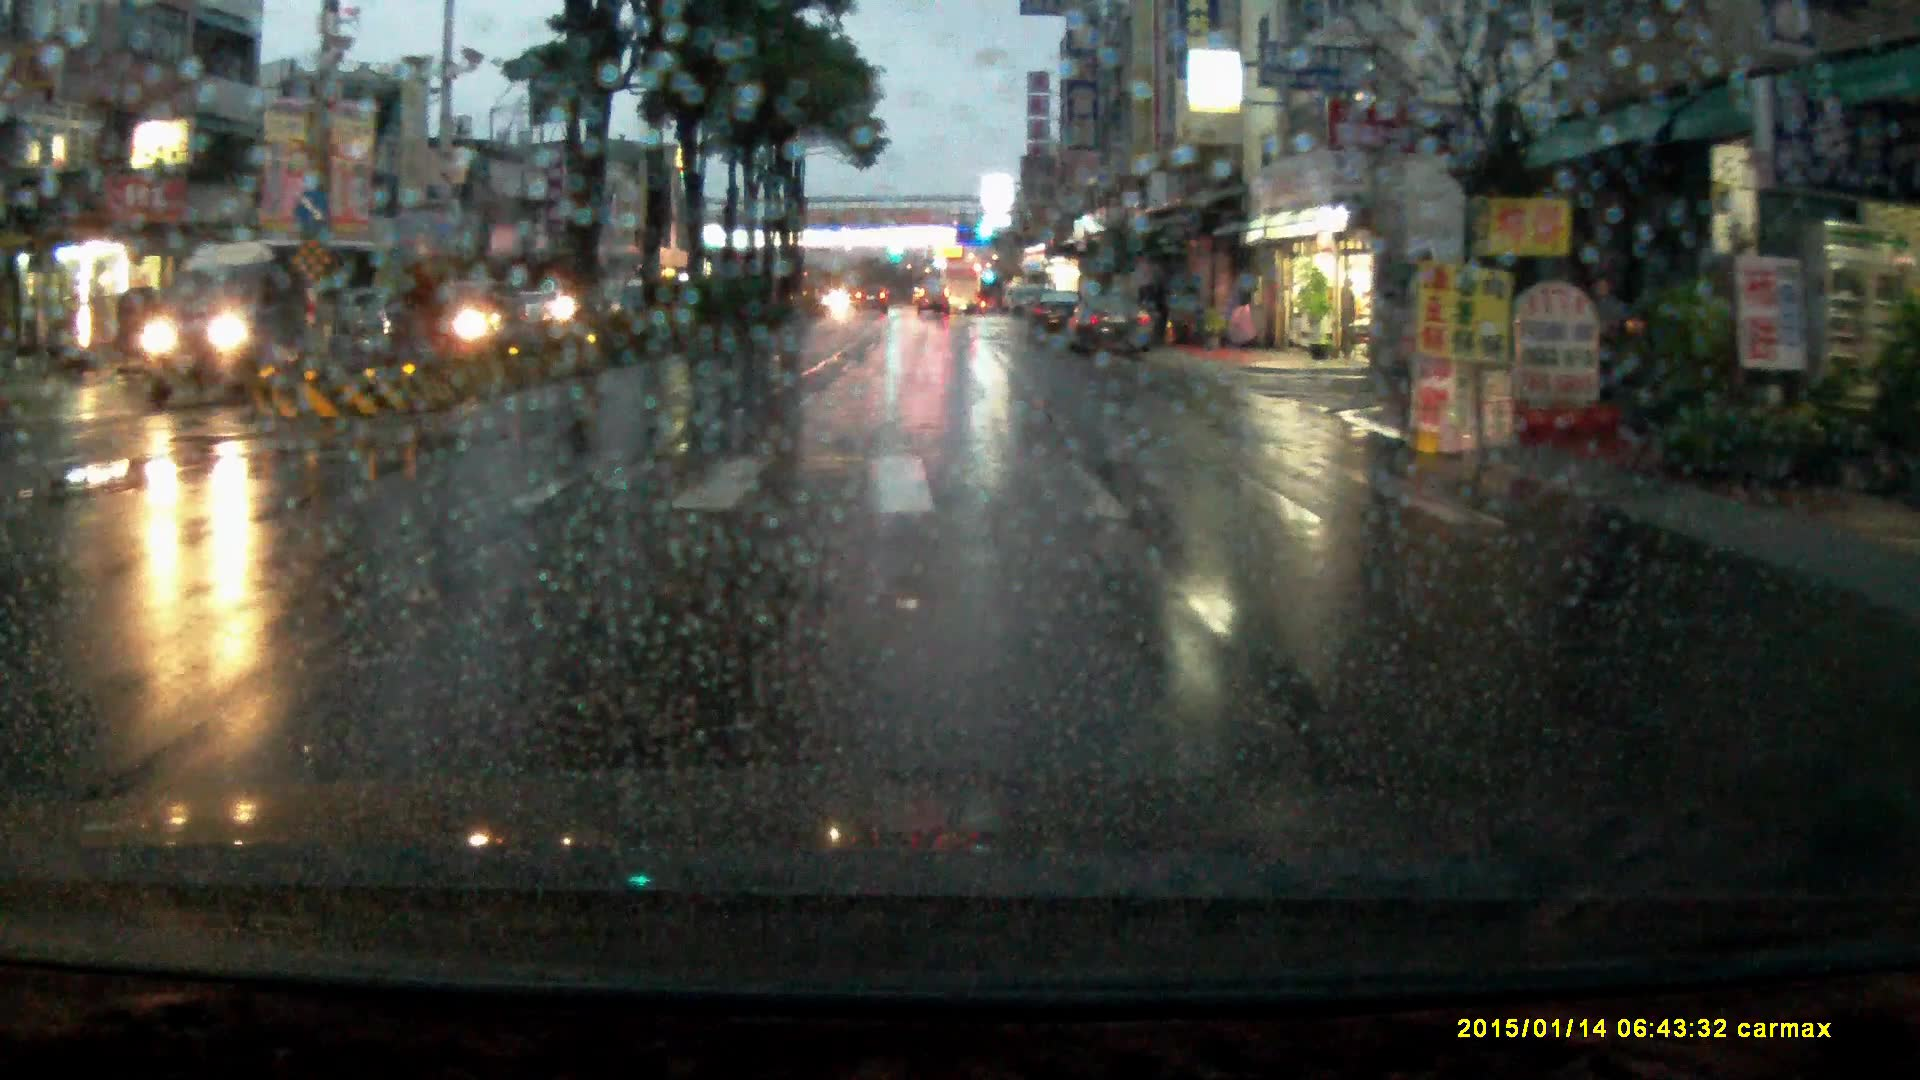vehicle: (132, 233, 392, 411), (396, 278, 531, 353), (1064, 287, 1156, 357), (1026, 287, 1083, 338), (938, 264, 982, 320), (919, 280, 953, 318), (855, 284, 891, 315)
